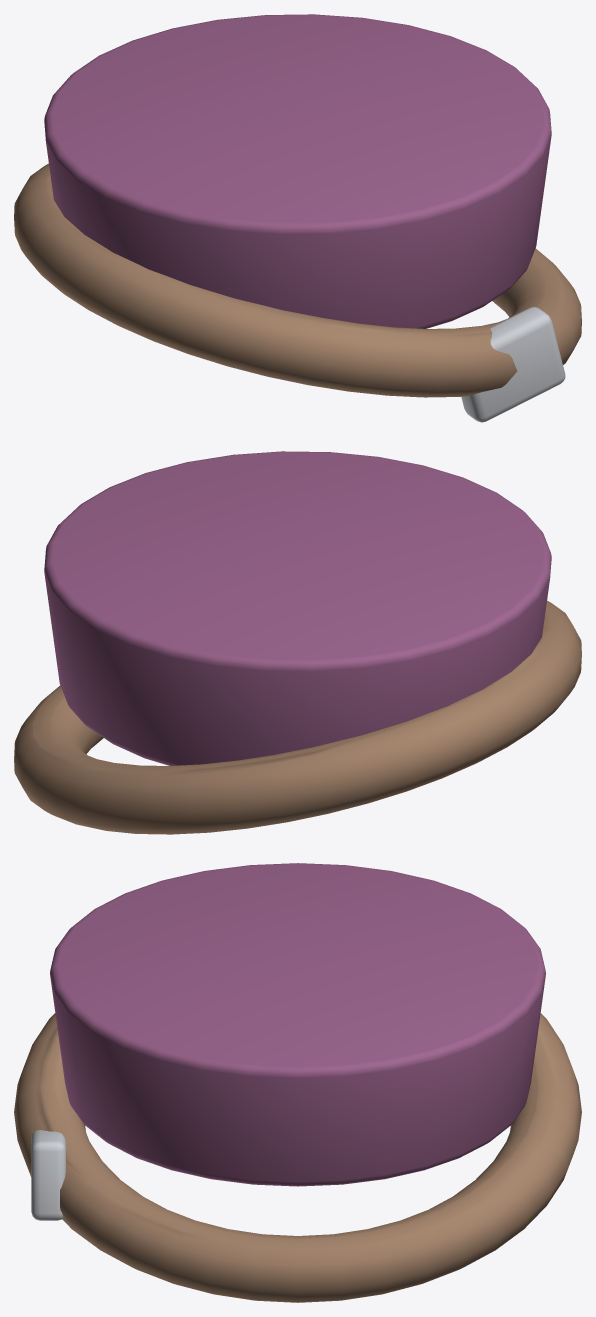
The model's file is riven_tunic.glb.
The picture shows the model from 3 angles, top to bottom: view 1: azimuth 30°, elevation 25°; view 2: azimuth 150°, elevation 25°; view 3: azimuth 270°, elevation 25°; orthographic projection. The views are drawn at different scales.
Visible parts, largest first — view 1: riven_tunic; view 2: riven_tunic; view 3: riven_tunic.
Boxes of the visible parts, x1,y1,x2,y2 form: riven_tunic: [14, 14, 581, 422]; riven_tunic: [14, 451, 581, 834]; riven_tunic: [14, 863, 581, 1302].
Size of the model in its own units: 0.4754 by 0.2211 by 0.49.
